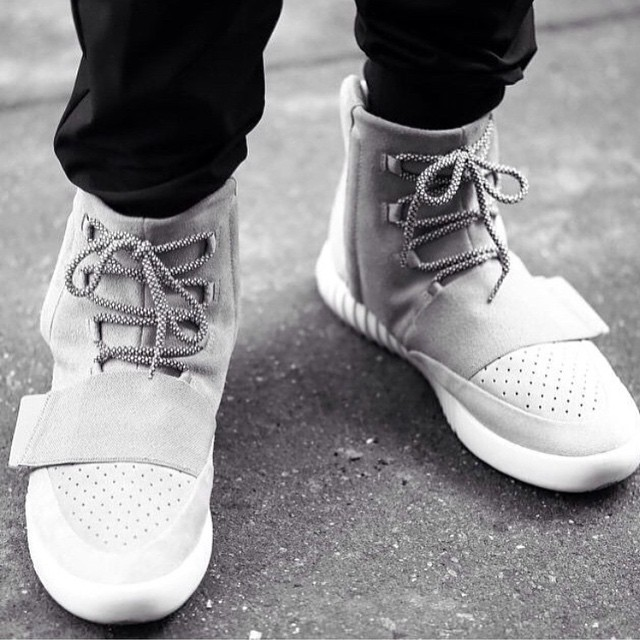sneaker: (290, 62, 640, 526), (1, 136, 283, 636)
